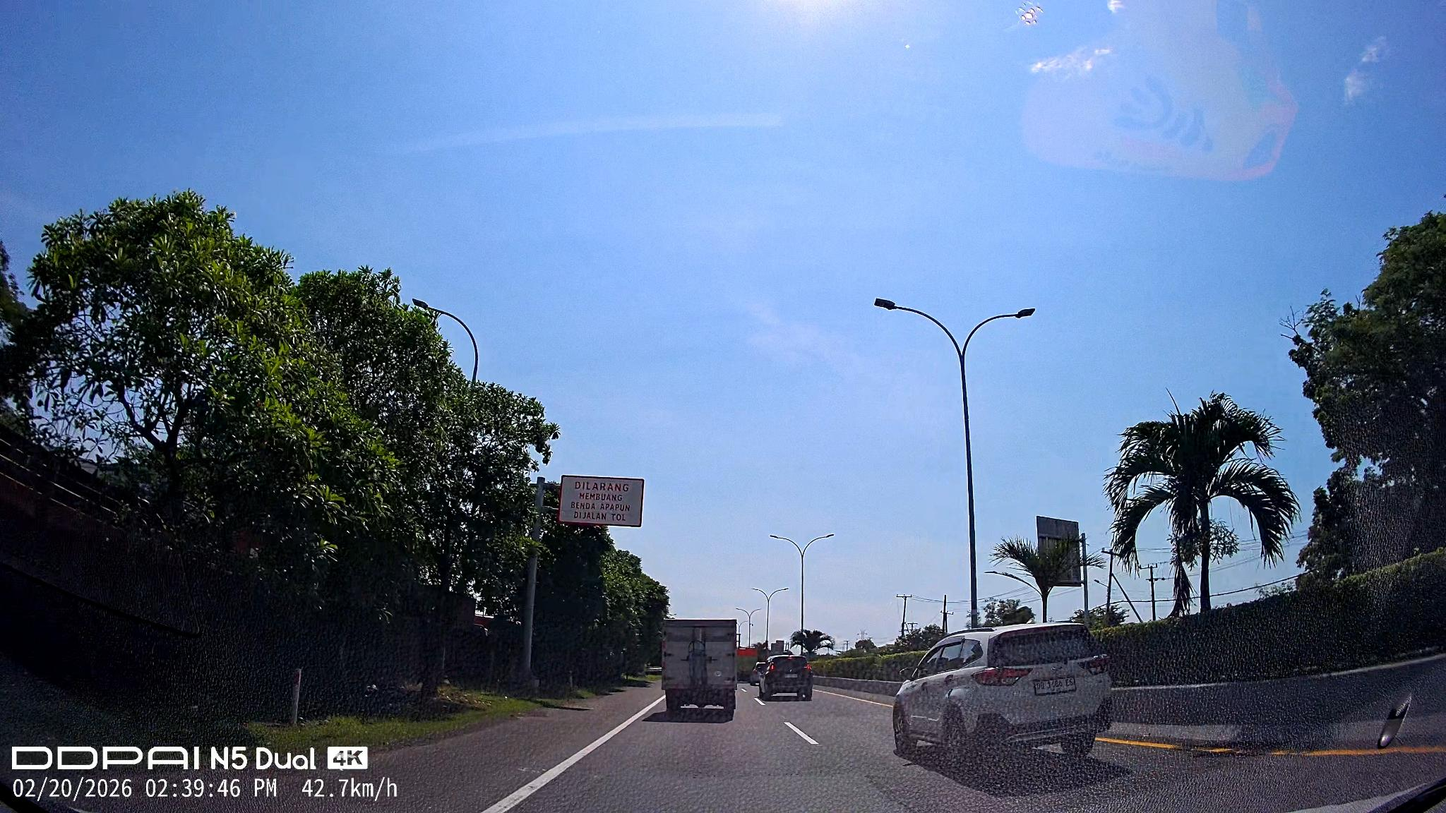rambu_teks: (557, 474, 645, 528)
